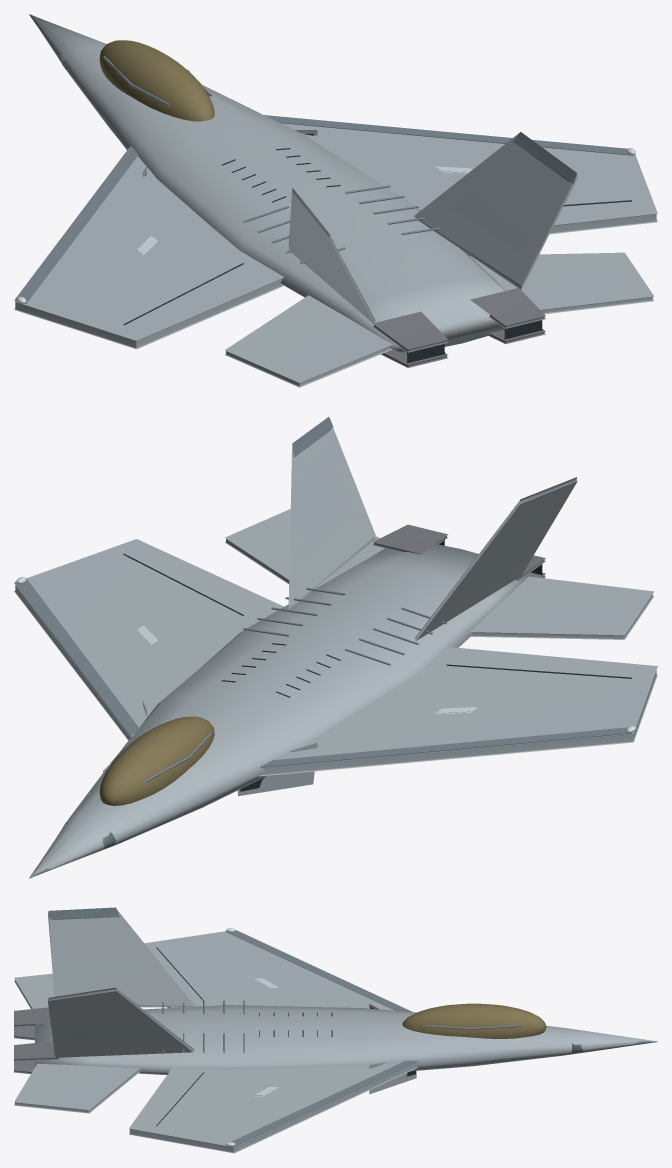
Rendered from specter.glb.
The picture shows the model from 3 angles, top to bottom: view 1: azimuth 30°, elevation 25°; view 2: azimuth 150°, elevation 25°; view 3: azimuth 270°, elevation 25°; orthographic projection. The views are drawn at different scales.
Visible parts, largest first — view 1: Titanium grey, Radar edge panels, Gold tinted canopy, Exhaust petals, Intakes and seams; view 2: Titanium grey, Radar edge panels, Gold tinted canopy, Exhaust petals, Intakes and seams; view 3: Titanium grey, Radar edge panels, Gold tinted canopy, Exhaust petals.
Boxes of the visible parts, box(x1,y1,x2,y2) form: Titanium grey: box(14, 15, 657, 387); Radar edge panels: box(15, 14, 633, 303); Gold tinted canopy: box(99, 40, 214, 121); Exhaust petals: box(372, 288, 545, 367); Intakes and seams: box(123, 133, 631, 363); Titanium grey: box(14, 427, 657, 876); Radar edge panels: box(14, 417, 632, 878); Gold tinted canopy: box(99, 716, 214, 805); Exhaust petals: box(373, 524, 545, 580); Intakes and seams: box(123, 540, 631, 791); Titanium grey: box(14, 909, 655, 1153); Radar edge panels: box(48, 907, 657, 1146); Gold tinted canopy: box(402, 1003, 546, 1038); Exhaust petals: box(14, 1007, 59, 1074).
Size of the model in its own units: 15.25 by 3.85 by 19.07.
